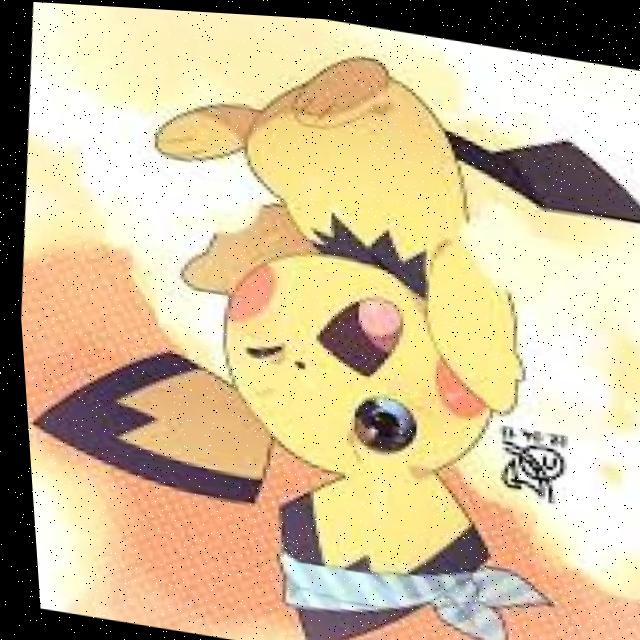pichu: (65, 38, 571, 615)
